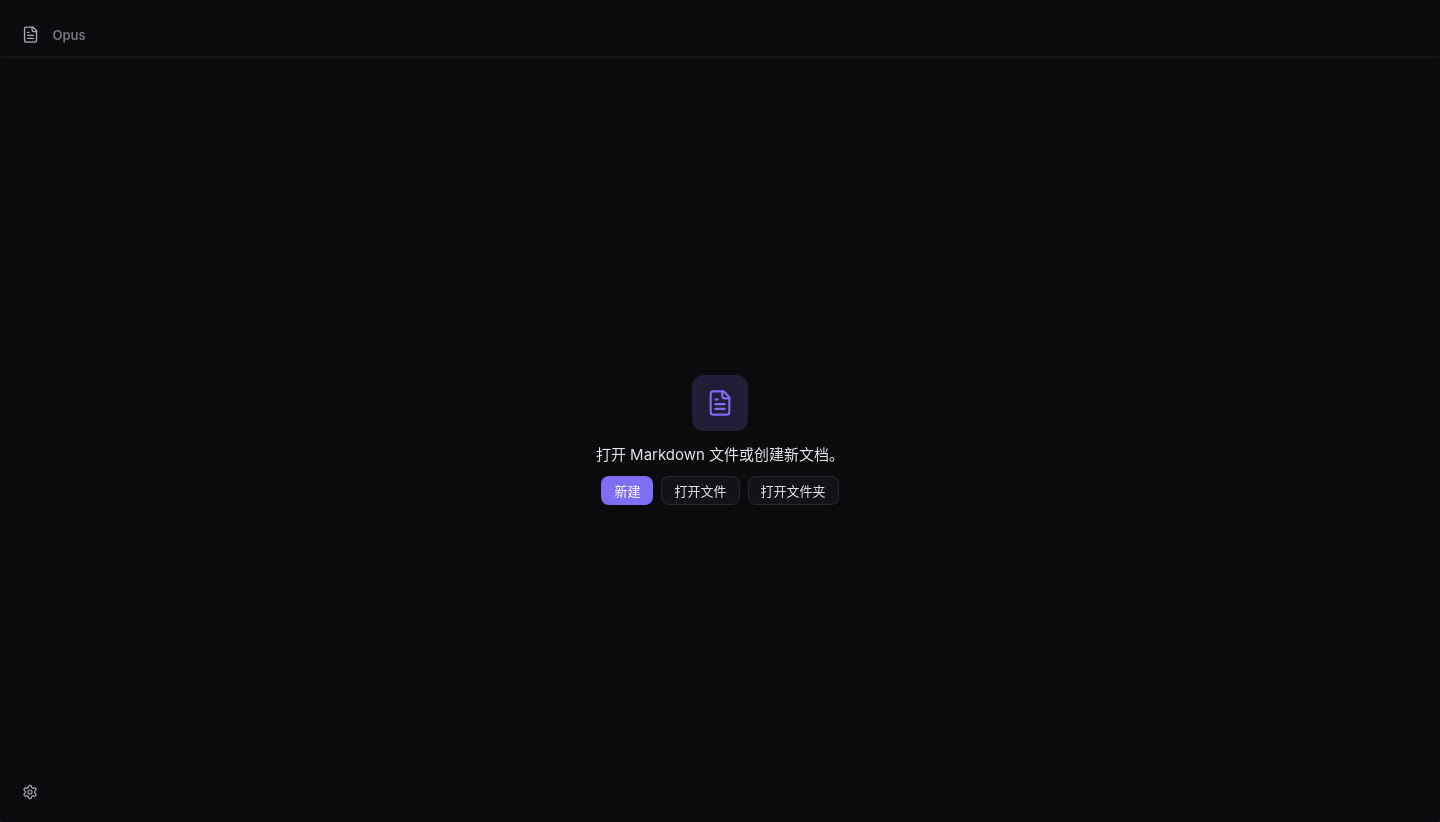
AppShell custom file header › keeps the window title and the file menu on Windows
The width and height of the screenshot is (1440, 822).
Expected: the text "Opus" is shown, left=52, top=27, right=86, bottom=43
Click the button named "文件": {"x": 31, "y": 35} left=13, top=17, right=49, bottom=53
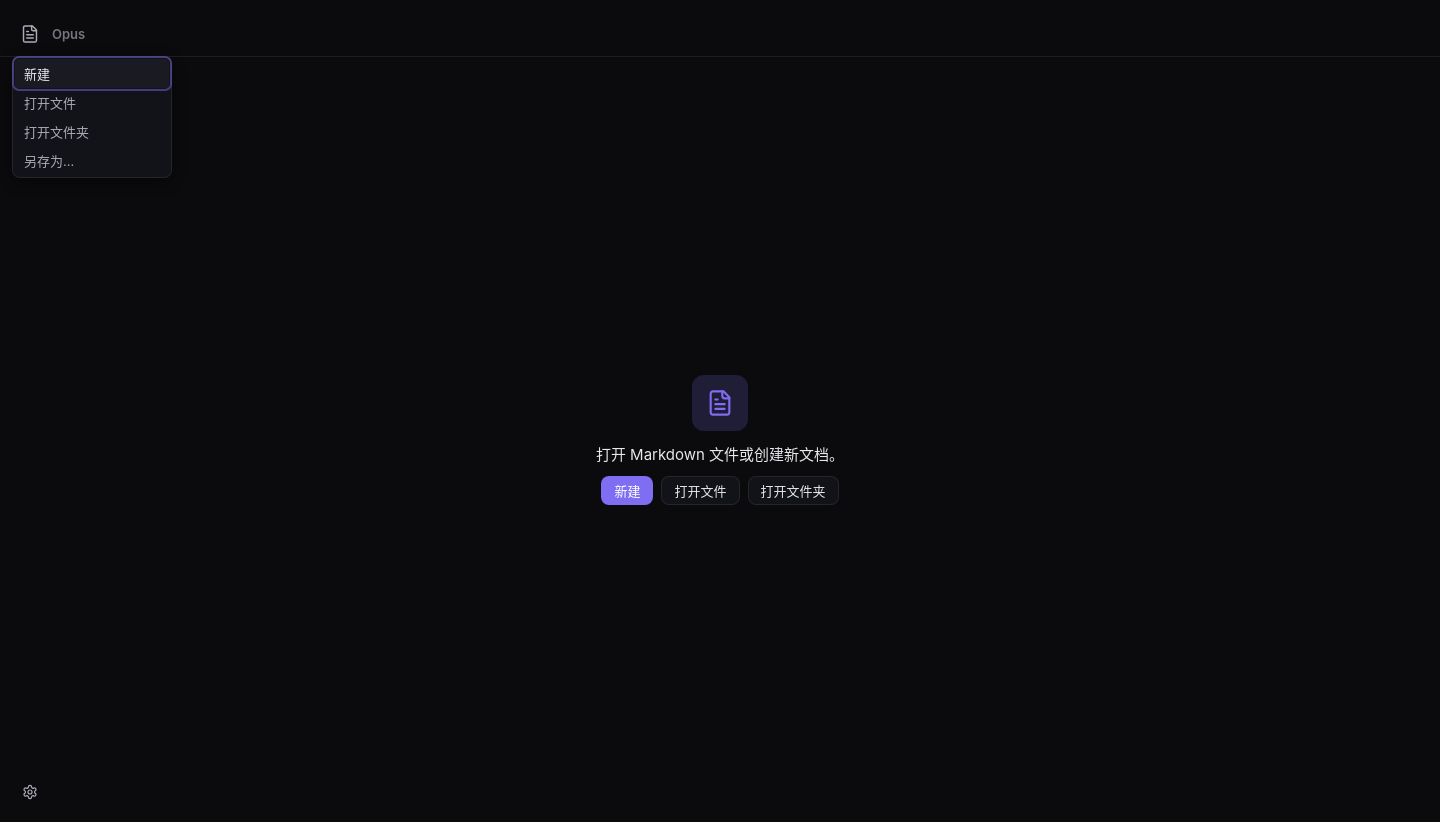
Result: the button named "文件" is expanded at left=11, top=15, right=50, bottom=54
Result: the menu items read "新建", "打开文件", "打开文件夹", "另存为…", in this order at left=15, top=59, right=169, bottom=88; left=15, top=88, right=169, bottom=117; left=15, top=117, right=169, bottom=146; left=15, top=146, right=169, bottom=175
